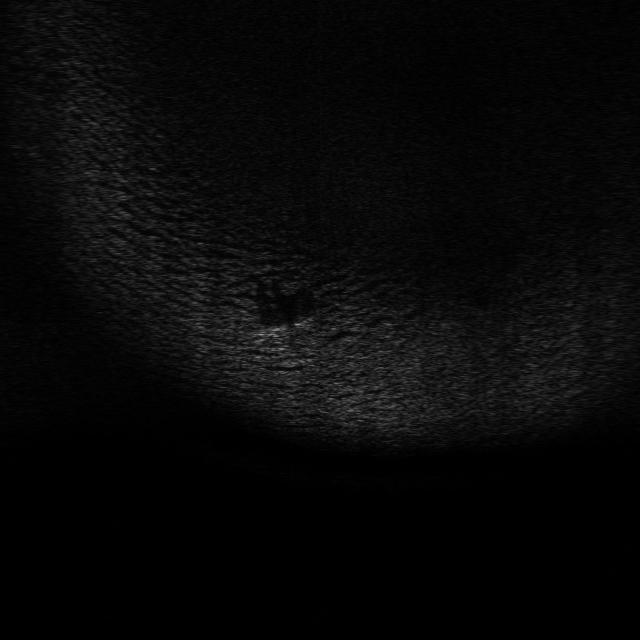plane: (250, 318, 310, 352)
